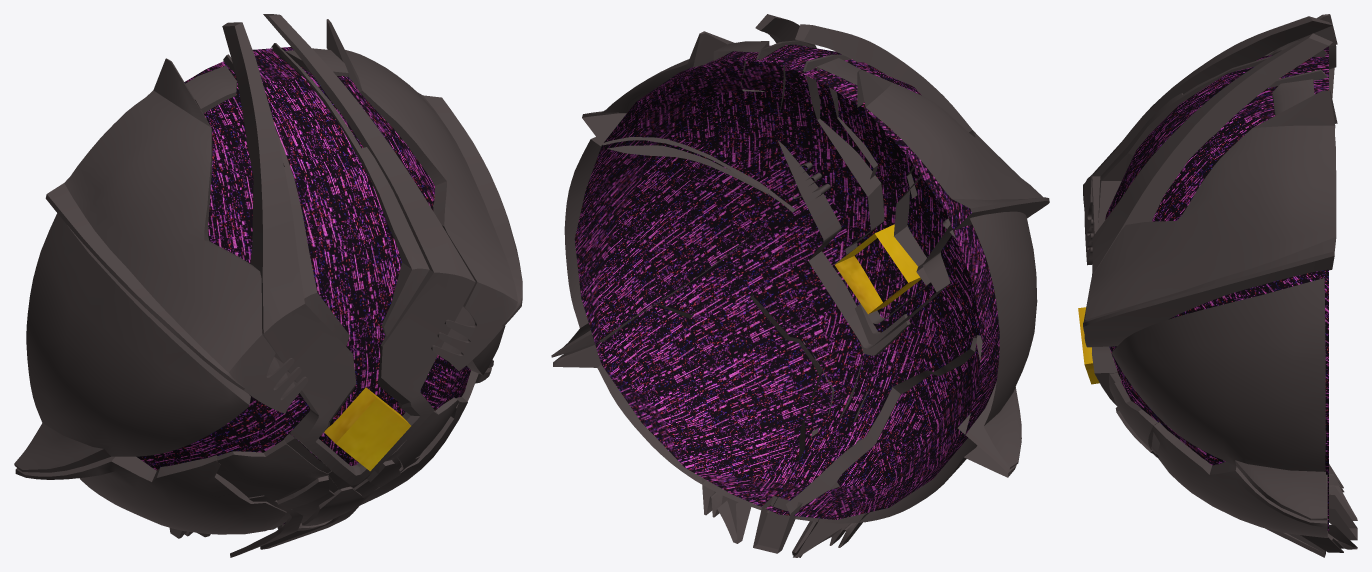
The model's file is the_cubes_cradle.glb.
3 renders of one model, left to right at view 1: azimuth 30°, elevation 25°; view 2: azimuth 150°, elevation 25°; view 3: azimuth 270°, elevation 25°, orthographic. The views are drawn at different scales.
Visible parts, largest first — view 1: SM_Guava_Cannonball_Ball_01_LOD0.mo_MI_Guava_Cannonball_Fron, SM_Guava_Cannonball_Ball_01_LOD0.mo_MI_Guava_Cannonball_Side, SM_Guava_Cannonball_Ball_01_LOD0.mo_MI_Guava_CannonballInter, SM_Guava_Cannonball_Ball_01_LOD0.mo; view 2: SM_Guava_Cannonball_Ball_01_LOD0.mo_MI_Guava_CannonballInter, SM_Guava_Cannonball_Ball_01_LOD0.mo_MI_Guava_Cannonball_Side, SM_Guava_Cannonball_Ball_01_LOD0.mo_MI_Guava_Cannonball_Fron, SM_Guava_Cannonball_Ball_01_LOD0.mo; view 3: SM_Guava_Cannonball_Ball_01_LOD0.mo_MI_Guava_Cannonball_Fron, SM_Guava_Cannonball_Ball_01_LOD0.mo_MI_Guava_Cannonball_Side, SM_Guava_Cannonball_Ball_01_LOD0.mo_MI_Guava_CannonballInter, SM_Guava_Cannonball_Ball_01_LOD0.mo.
Boxes of the visible parts, <box> form: SM_Guava_Cannonball_Ball_01_LOD0.mo_MI_Guava_Cannonball_Fron: <box>45,14,522,530</box>; SM_Guava_Cannonball_Ball_01_LOD0.mo_MI_Guava_Cannonball_Side: <box>14,43,505,557</box>; SM_Guava_Cannonball_Ball_01_LOD0.mo_MI_Guava_CannonballInter: <box>136,47,470,524</box>; SM_Guava_Cannonball_Ball_01_LOD0.mo: <box>324,387,410,471</box>; SM_Guava_Cannonball_Ball_01_LOD0.mo_MI_Guava_CannonballInter: <box>574,44,999,519</box>; SM_Guava_Cannonball_Ball_01_LOD0.mo_MI_Guava_Cannonball_Side: <box>551,40,1037,557</box>; SM_Guava_Cannonball_Ball_01_LOD0.mo_MI_Guava_Cannonball_Fron: <box>582,14,1049,443</box>; SM_Guava_Cannonball_Ball_01_LOD0.mo: <box>835,224,921,314</box>; SM_Guava_Cannonball_Ball_01_LOD0.mo_MI_Guava_Cannonball_Fron: <box>1083,14,1337,457</box>; SM_Guava_Cannonball_Ball_01_LOD0.mo_MI_Guava_Cannonball_Side: <box>1091,50,1357,557</box>; SM_Guava_Cannonball_Ball_01_LOD0.mo_MI_Guava_CannonballInter: <box>1105,46,1328,531</box>; SM_Guava_Cannonball_Ball_01_LOD0.mo: <box>1078,307,1099,384</box>.
Bounding box in the file's own units: 8398 × 9230 × 4485.
Materials: 4 (2 with a texture image).
